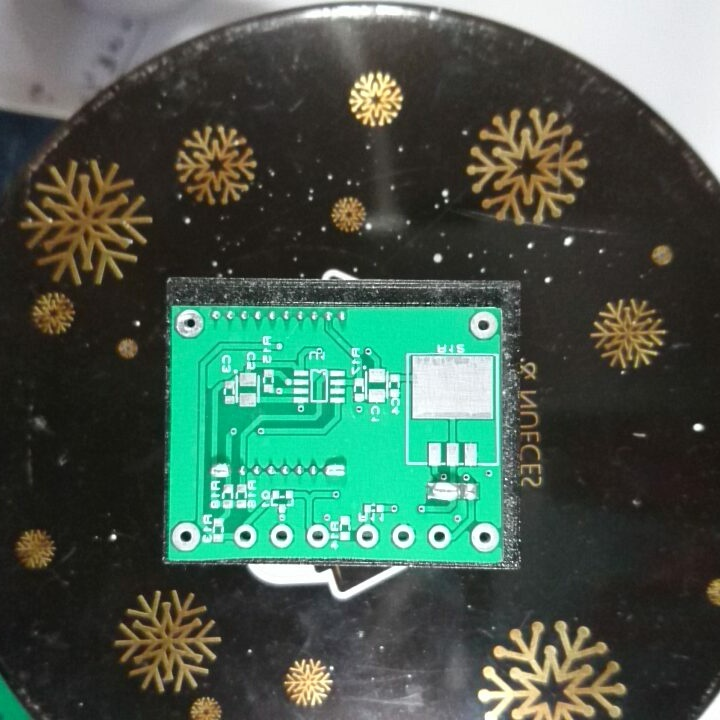F: (171, 519, 202, 554), (469, 521, 501, 553), (468, 310, 500, 341), (174, 309, 206, 339), (268, 521, 296, 549), (352, 522, 380, 549), (425, 523, 453, 550), (390, 523, 417, 549), (232, 523, 260, 548), (305, 522, 328, 549)
P: (424, 478, 462, 503), (321, 460, 348, 480), (208, 461, 233, 480)
